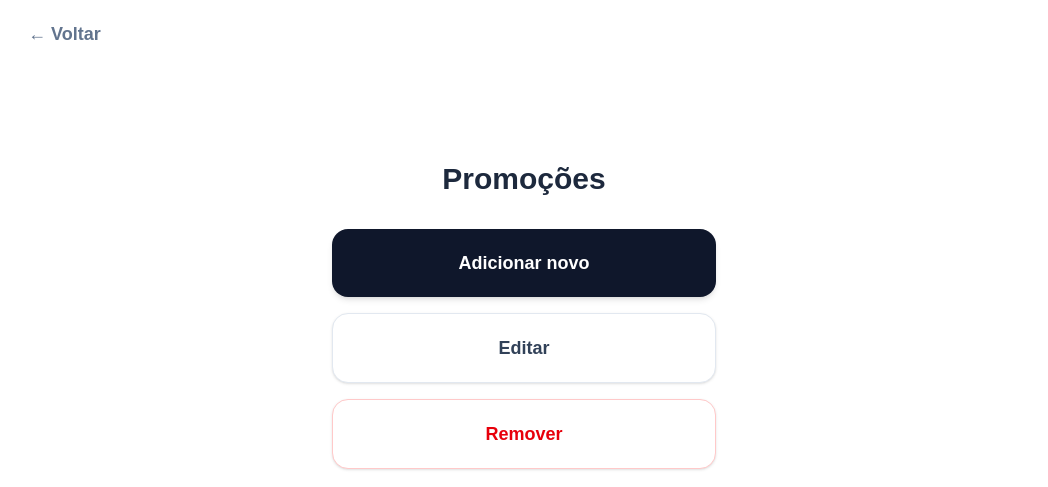
Test: PromocaoHub › só lista promoções de 1 produto para edição, ocultando promoções multi-item feitas fora do modo simples
Click the button "Editar" at (524, 348), box [332,313,716,383]
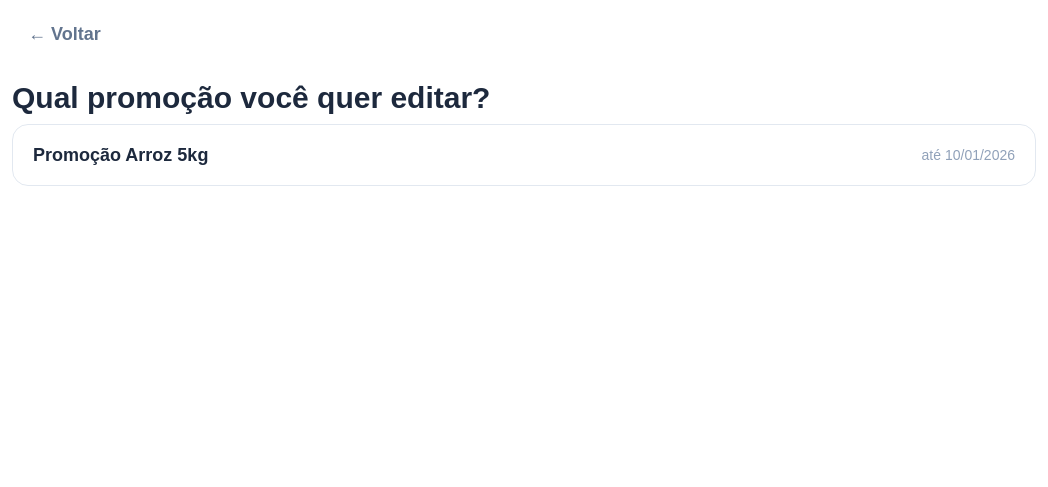
Expected: the text "Promoção Arroz 5kg" is shown, [33,141,208,169]
